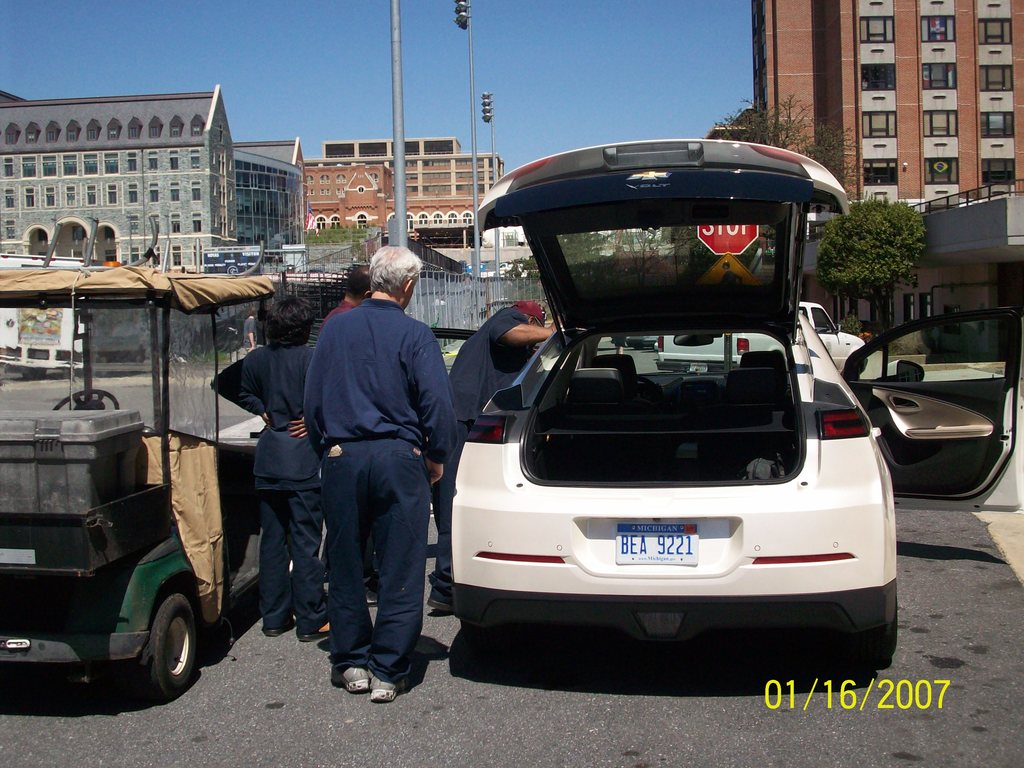Car: (454, 165, 933, 684)
